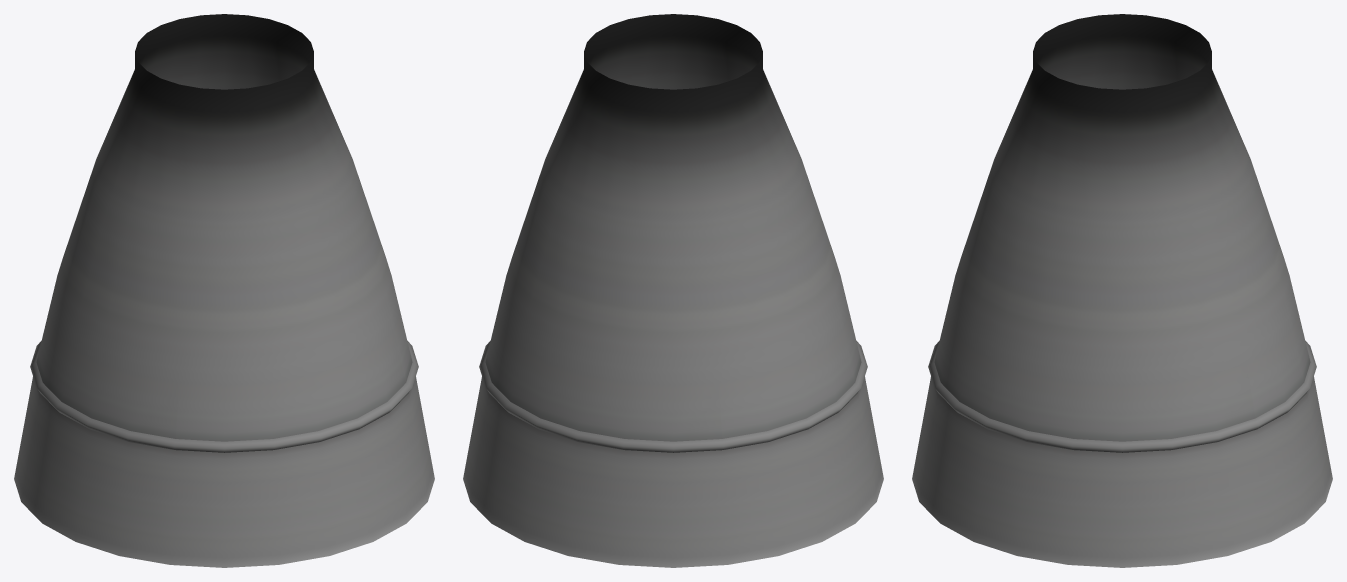
Rendered from ALV_1_Engine_1_Nozzle.obj.
3 renders of one model, left to right at view 1: azimuth 30°, elevation 25°; view 2: azimuth 150°, elevation 25°; view 3: azimuth 270°, elevation 25°, orthographic.
Parts seen in each view (by area): view 1: ALV_1_Engine_1_Nozzle; view 2: ALV_1_Engine_1_Nozzle; view 3: ALV_1_Engine_1_Nozzle.
Part boxes in pixels (left/top/right/bottom): ALV_1_Engine_1_Nozzle: left=14, top=14, right=434, bottom=567; ALV_1_Engine_1_Nozzle: left=463, top=14, right=883, bottom=567; ALV_1_Engine_1_Nozzle: left=912, top=14, right=1332, bottom=567.
Size of the model in its own units: 0.72 by 0.8063 by 0.72.
